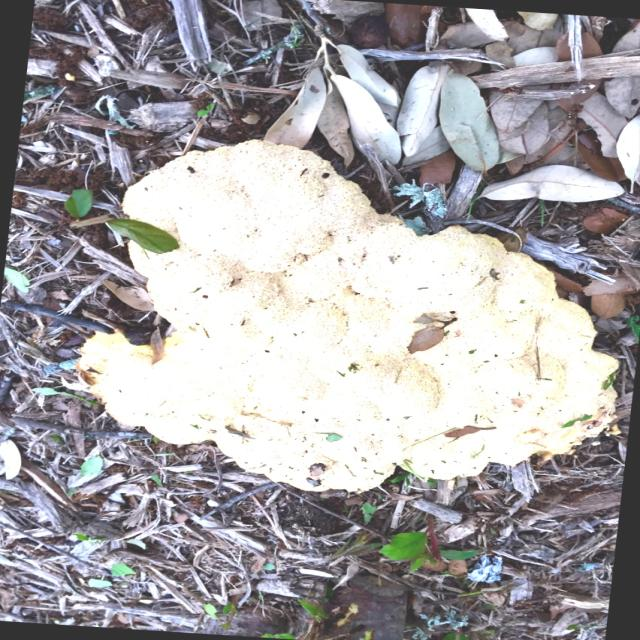Dog_vomit_slime_mold: (62, 127, 640, 486)
